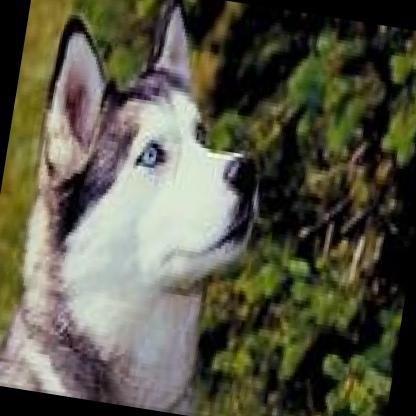Eskimo_dog: (0, 0, 283, 410)
